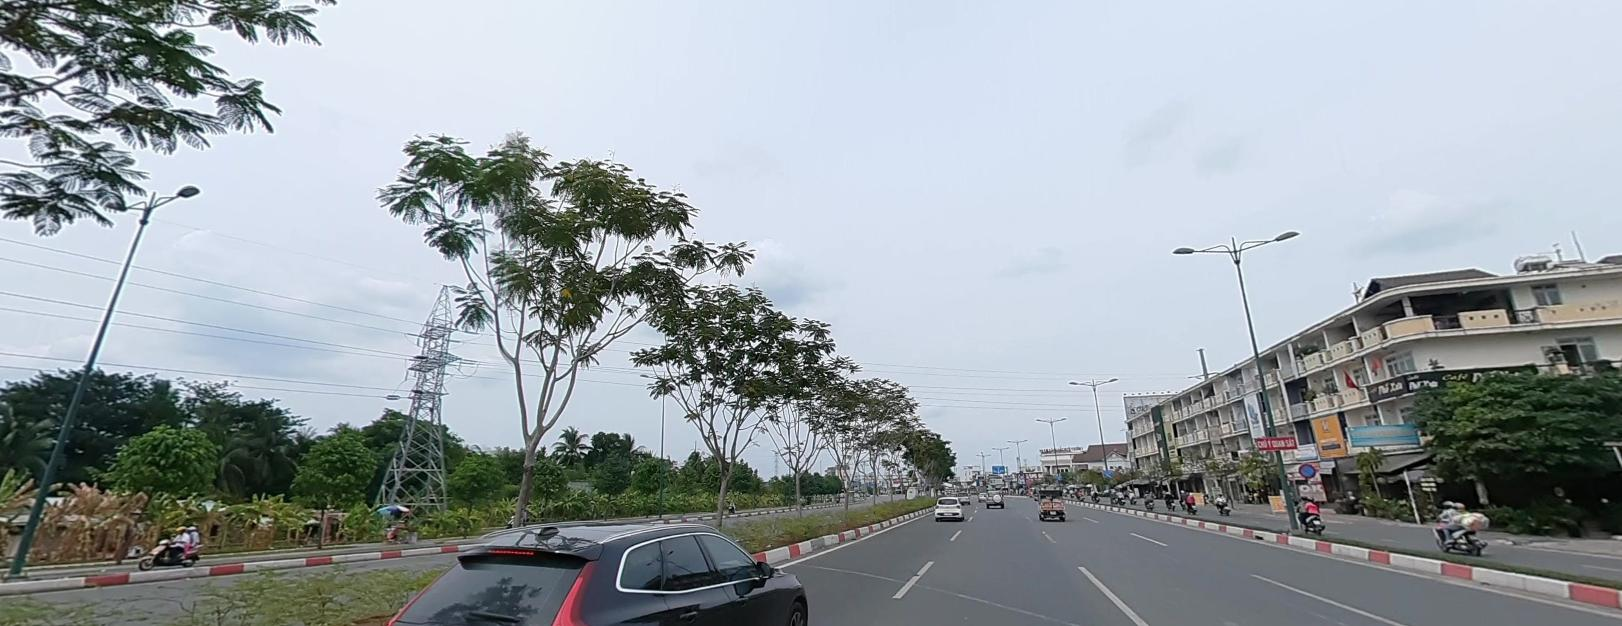Cam dung va do: (1299, 461, 1315, 477)
